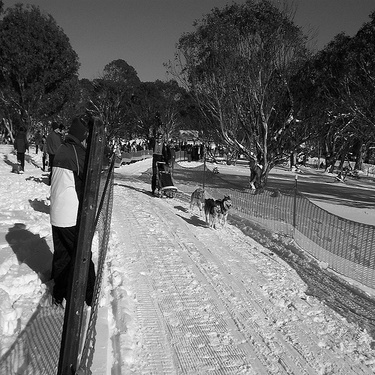dog: (200, 193, 224, 230), (186, 184, 207, 213), (216, 191, 232, 227)
